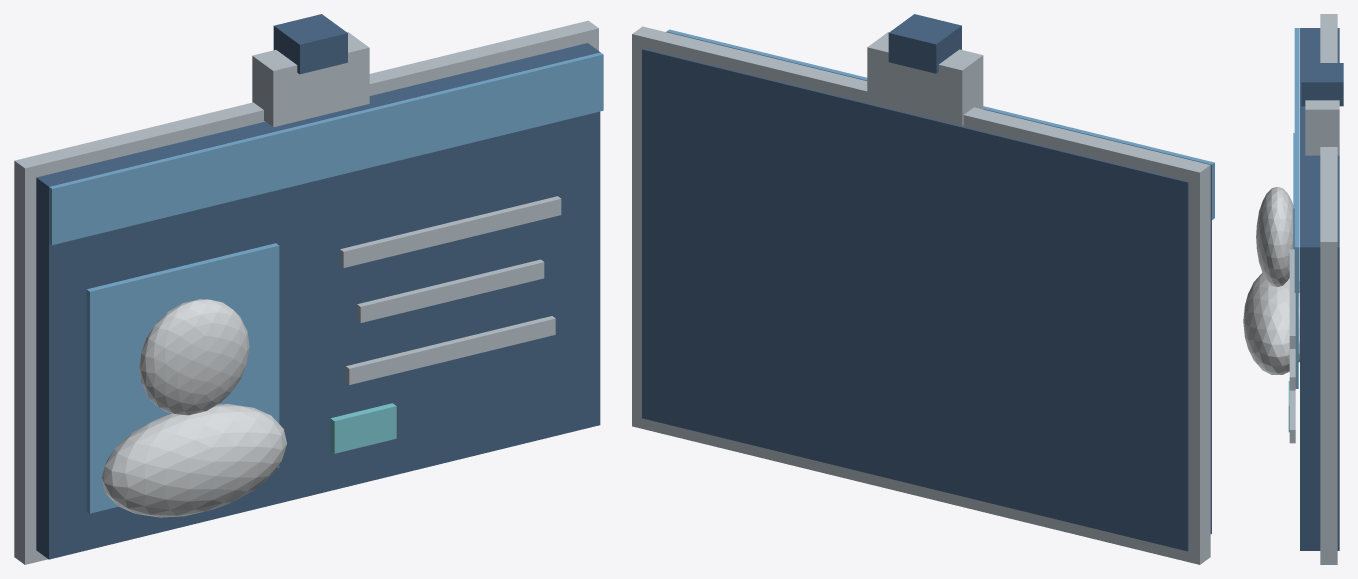
File: employee-id.glb
3 renders of one model, left to right at view 1: azimuth 30°, elevation 25°; view 2: azimuth 150°, elevation 25°; view 3: azimuth 270°, elevation 25°, orthographic. The views are drawn at different scales.
Parts seen in each view (by area): view 1: badge_body, blue_top_strip, photo_background, silver_edge, profile_shoulders, profile_head, badge_clip, detail_line_0, detail_line_2, detail_line_1, lanyard_anchor, status_indicator; view 2: badge_body, silver_edge, badge_clip, lanyard_anchor, blue_top_strip; view 3: badge_body, silver_edge, profile_shoulders, profile_head, badge_clip, lanyard_anchor, blue_top_strip, detail_line_0, photo_background, detail_line_2, detail_line_1.
Boxes of the visible parts, x1,y1,x2,y2 form: badge_body: (36,43,600,559); blue_top_strip: (49,52,603,245); photo_background: (86,243,279,513); silver_edge: (14,20,598,564); profile_shoulders: (101,404,286,517); profile_head: (139,299,249,415); badge_clip: (252,32,369,127); detail_line_0: (340,196,561,267); detail_line_2: (345,316,555,384); detail_line_1: (357,259,544,322); lanyard_anchor: (273,14,347,74); status_indicator: (330,403,396,453); badge_body: (642,31,1211,551); silver_edge: (632,26,1210,564); badge_clip: (867,32,983,125); lanyard_anchor: (888,14,961,73); blue_top_strip: (666,29,1214,219); badge_body: (1300,28,1339,550); silver_edge: (1320,14,1337,564); profile_shoulders: (1243,272,1299,374); profile_head: (1256,187,1293,286); badge_clip: (1305,100,1339,155); lanyard_anchor: (1301,63,1343,106); blue_top_strip: (1294,28,1299,292); detail_line_0: (1289,249,1295,348); photo_background: (1293,133,1298,388); detail_line_2: (1289,390,1295,443); detail_line_1: (1289,349,1295,390).
Size of the model in its own units: 2.03 by 1.57 by 0.378.
